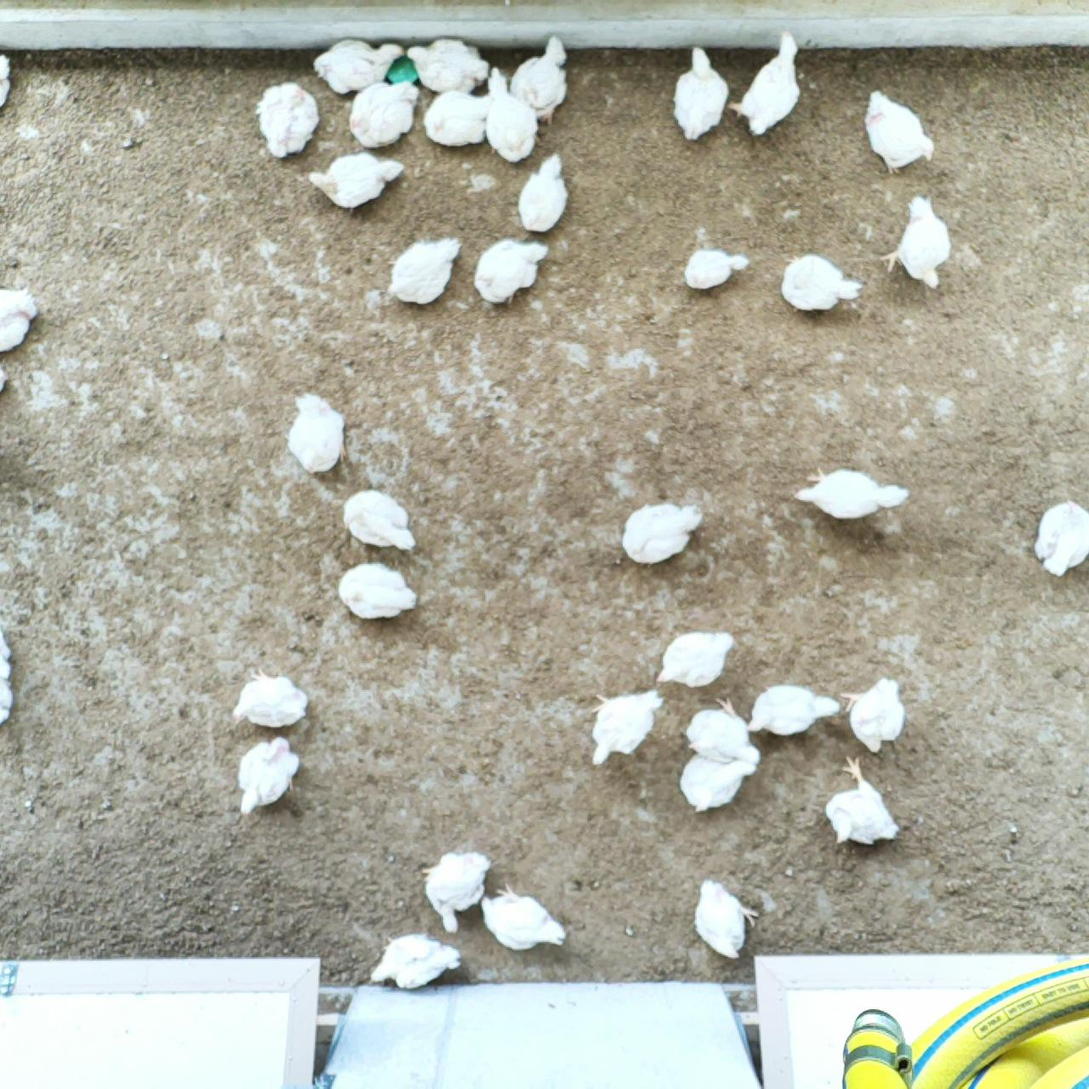chicken: (727, 28, 804, 137), (820, 754, 900, 853), (880, 193, 952, 290), (792, 466, 912, 524), (473, 880, 567, 952), (582, 686, 665, 765), (366, 929, 465, 994), (863, 86, 935, 174), (419, 849, 493, 932), (302, 154, 404, 214), (386, 233, 465, 310), (506, 35, 572, 125), (680, 694, 763, 765), (285, 386, 349, 478), (673, 42, 731, 143), (618, 499, 704, 566), (744, 681, 841, 740), (480, 65, 538, 162), (692, 877, 758, 961), (312, 35, 402, 95), (404, 38, 492, 99), (343, 80, 418, 151), (237, 734, 300, 816), (257, 81, 322, 160), (777, 252, 861, 313), (228, 666, 309, 729), (341, 486, 416, 554), (472, 238, 549, 304), (841, 674, 905, 753), (678, 750, 756, 814), (1030, 499, 1089, 582), (338, 560, 419, 620), (656, 630, 738, 689), (422, 91, 500, 151), (518, 152, 570, 233), (683, 246, 752, 290), (0, 286, 36, 354), (0, 624, 14, 729), (0, 50, 13, 109), (0, 366, 10, 393)
